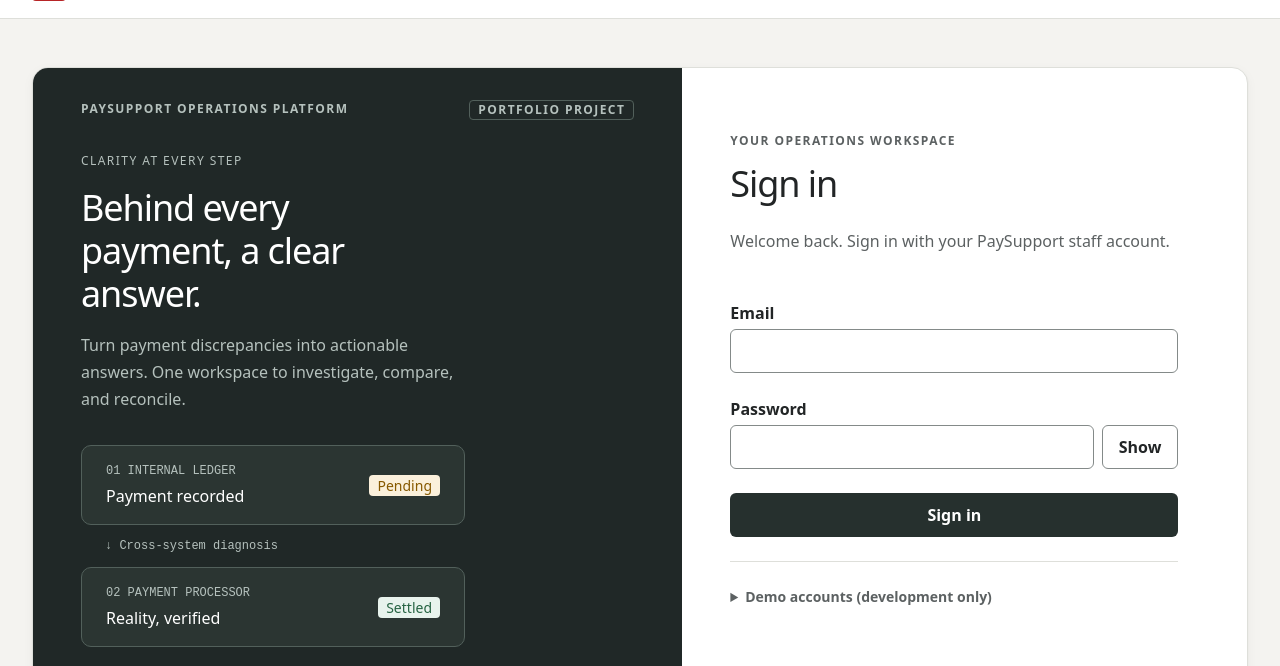
Test: workspace › shows open findings first and filters by state
The width and height of the screenshot is (1280, 666).
Type "engineer@paysupport.test" into the field labelled "Email".
click(954, 351); type("engineer@paysupport.test")  # box [730,329,1178,373]
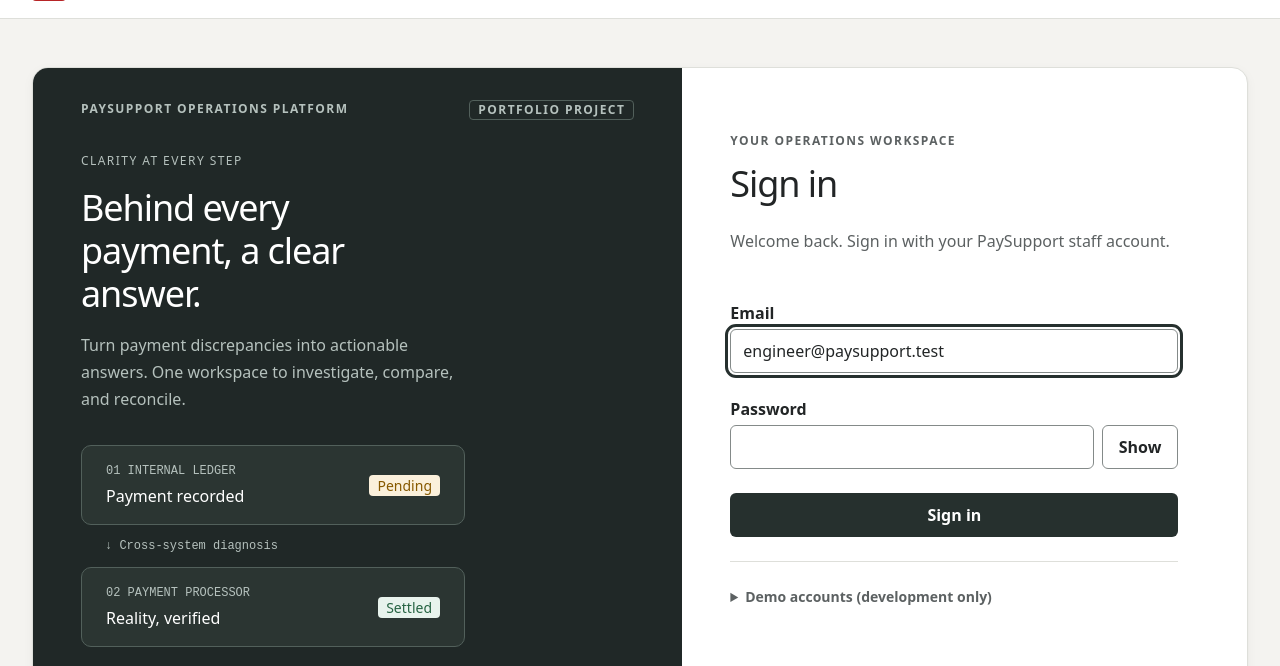
Type "test-password" into the password field labelled "Password".
click(912, 447); type("test-password")  # box [730,425,1094,469]
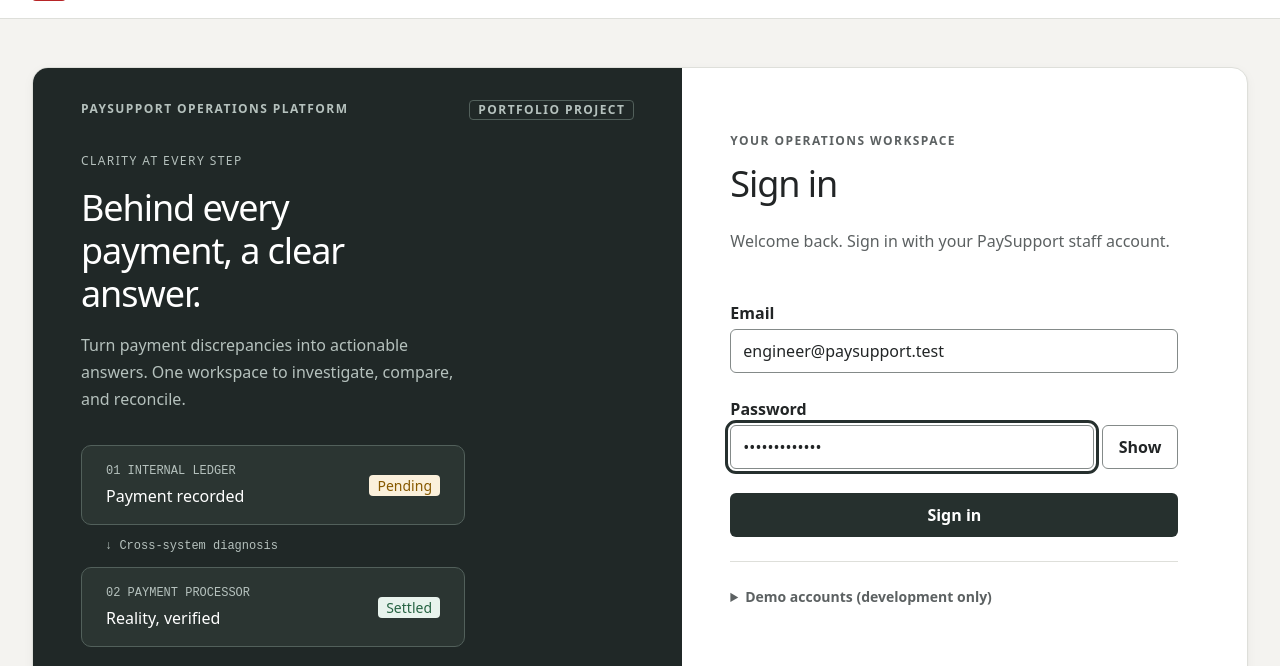
Click the button "Sign in".
click(954, 515)  # box [730,493,1178,537]
(page scrolled)
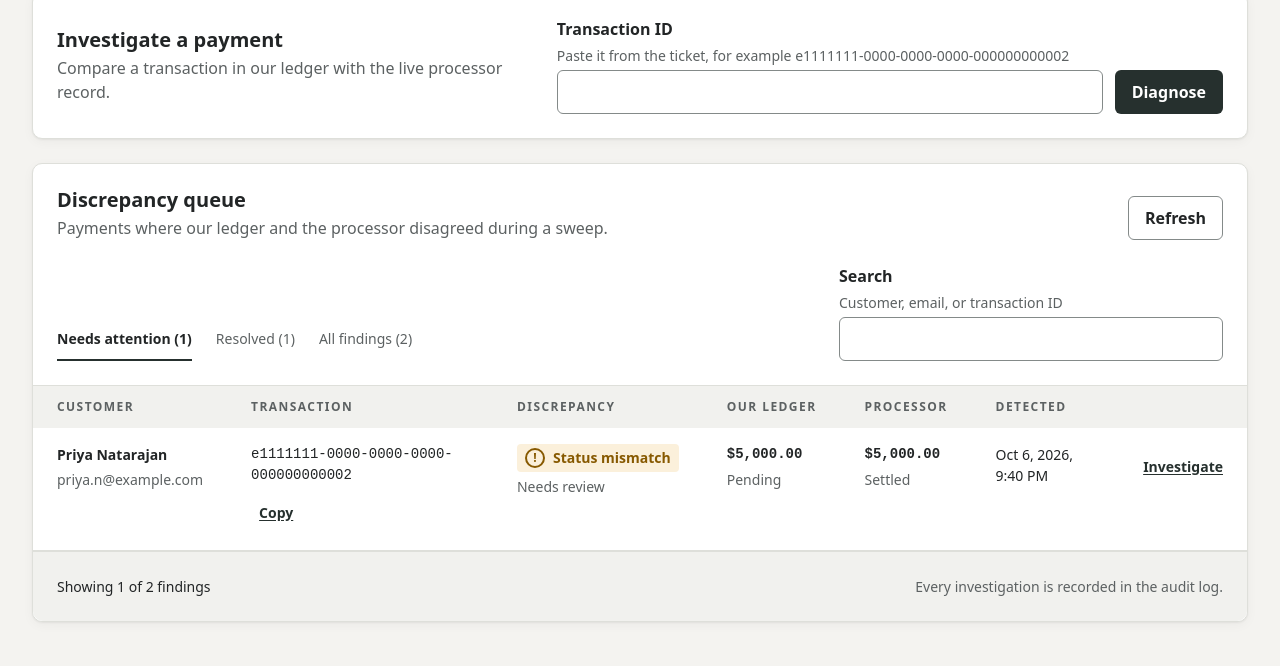
Expected: the text "Jordan Reyes" is not shown
Now the text "Priya Natarajan" is shown, box [57,445,167,464]
Click the button "Resolved (1)".
click(255, 339)  # box [216,317,295,361]
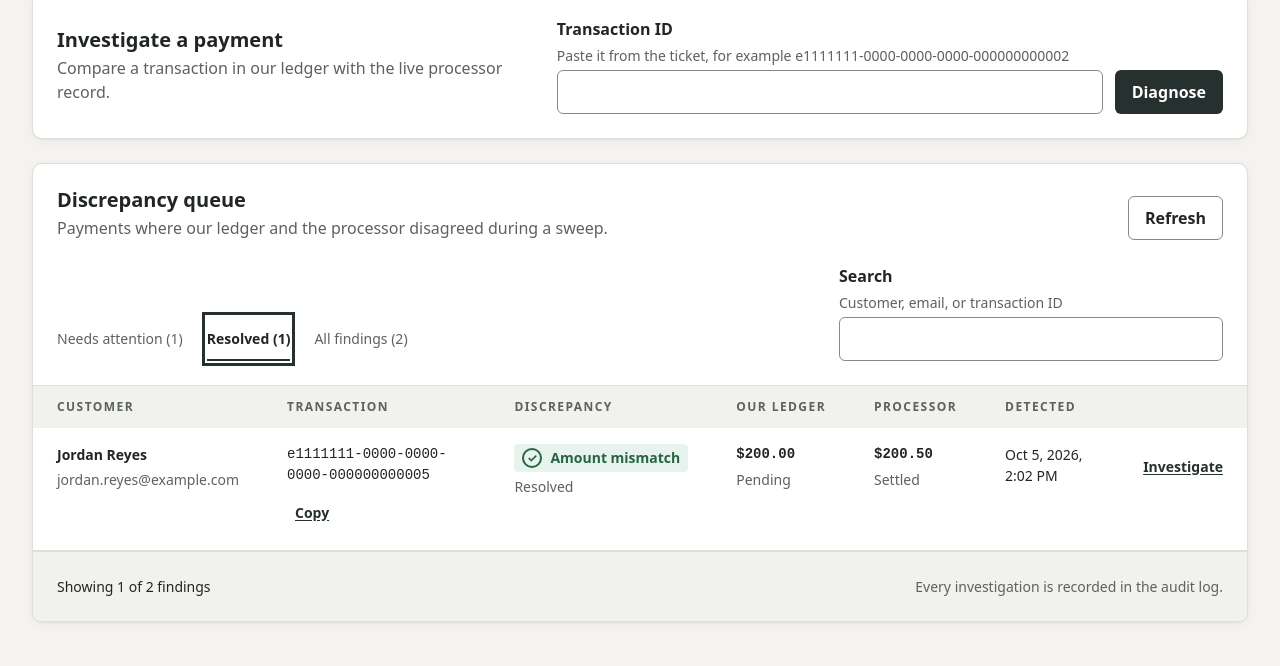
Now the text "Jordan Reyes" is shown, box [57,445,147,464]
Now the text "Priya Natarajan" is gone
Click the button "All findings (2)".
click(361, 339)  # box [314,317,408,361]
(page scrolled)
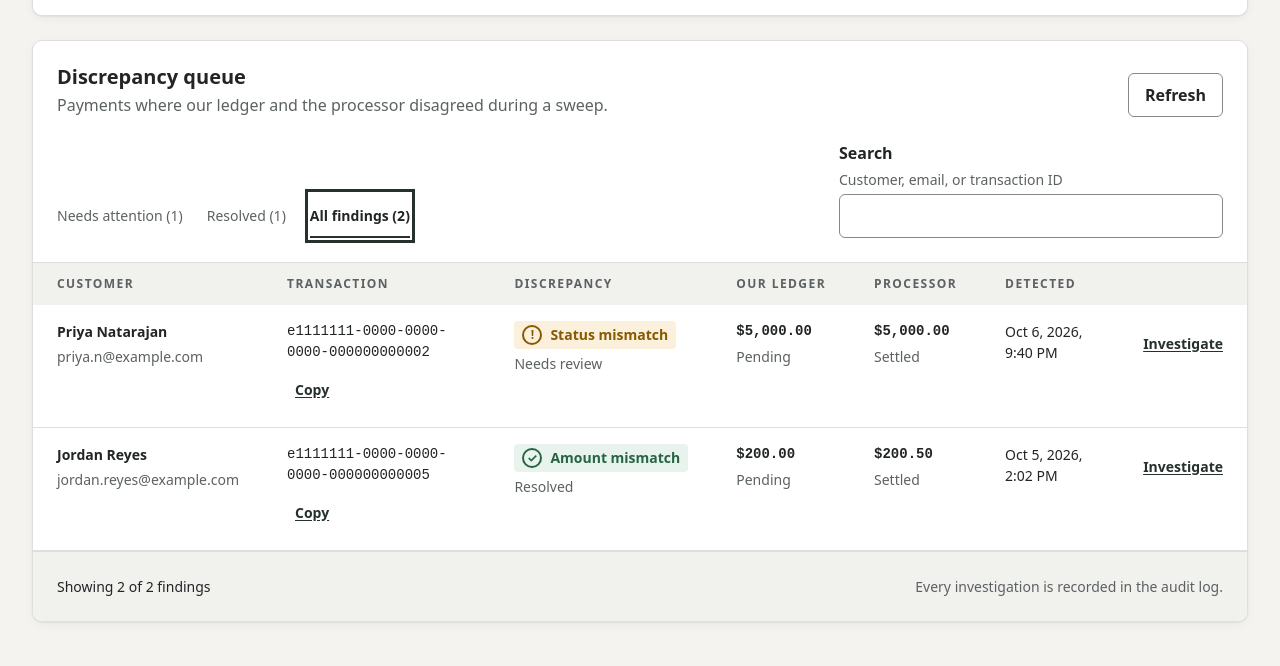
Now the text "Showing 2 of 2 findings" is shown, box [57,576,211,597]
